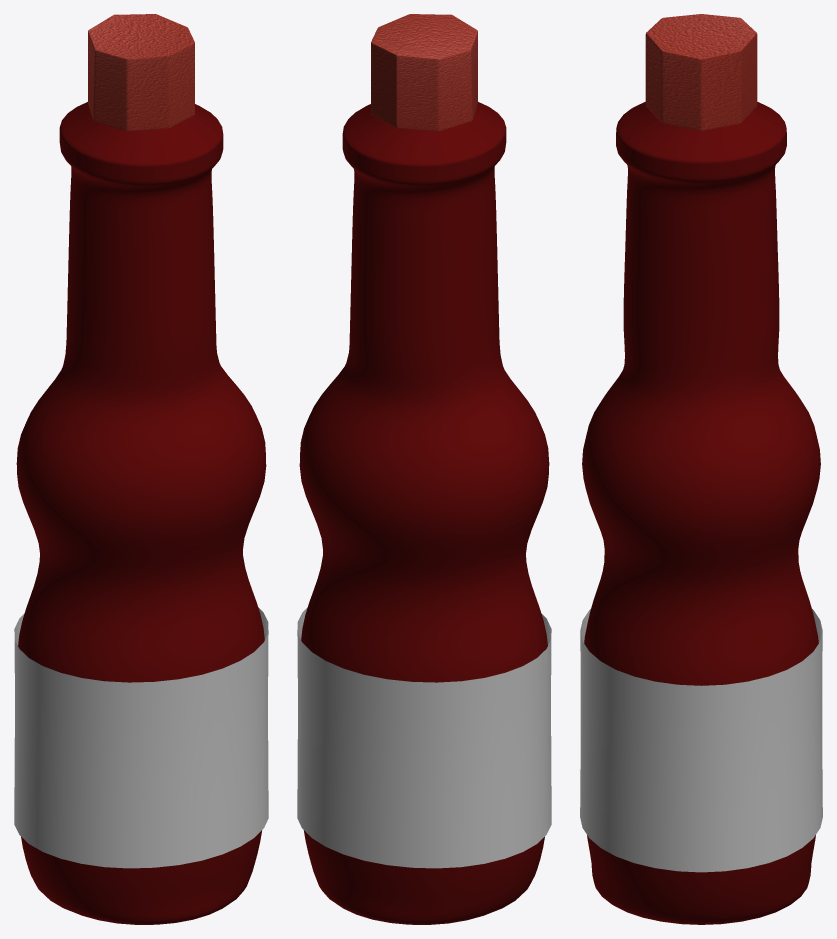
The model's file is Slasa.dae.
3 views of the same model, side by side, from view 1: azimuth 30°, elevation 25°; view 2: azimuth 150°, elevation 25°; view 3: azimuth 270°, elevation 25° (orthographic).
Visible parts, largest first — view 1: Cuerpo, Etiqueta, SalsaSmooth_Tapa; view 2: Cuerpo, Etiqueta, SalsaSmooth_Tapa; view 3: Cuerpo, Etiqueta, SalsaSmooth_Tapa.
Boxes of the visible parts, x1,y1,x2,y2 form: Cuerpo: (16,102,266,924); Etiqueta: (14,607,268,868); SalsaSmooth_Tapa: (88,14,194,131); Cuerpo: (299,102,549,924); Etiqueta: (297,607,551,868); SalsaSmooth_Tapa: (371,14,477,131); Cuerpo: (582,102,820,924); Etiqueta: (580,609,822,872); SalsaSmooth_Tapa: (645,14,757,130).
Bounding box in the file's own units: 0.2943 × 1.07 × 0.2736.
